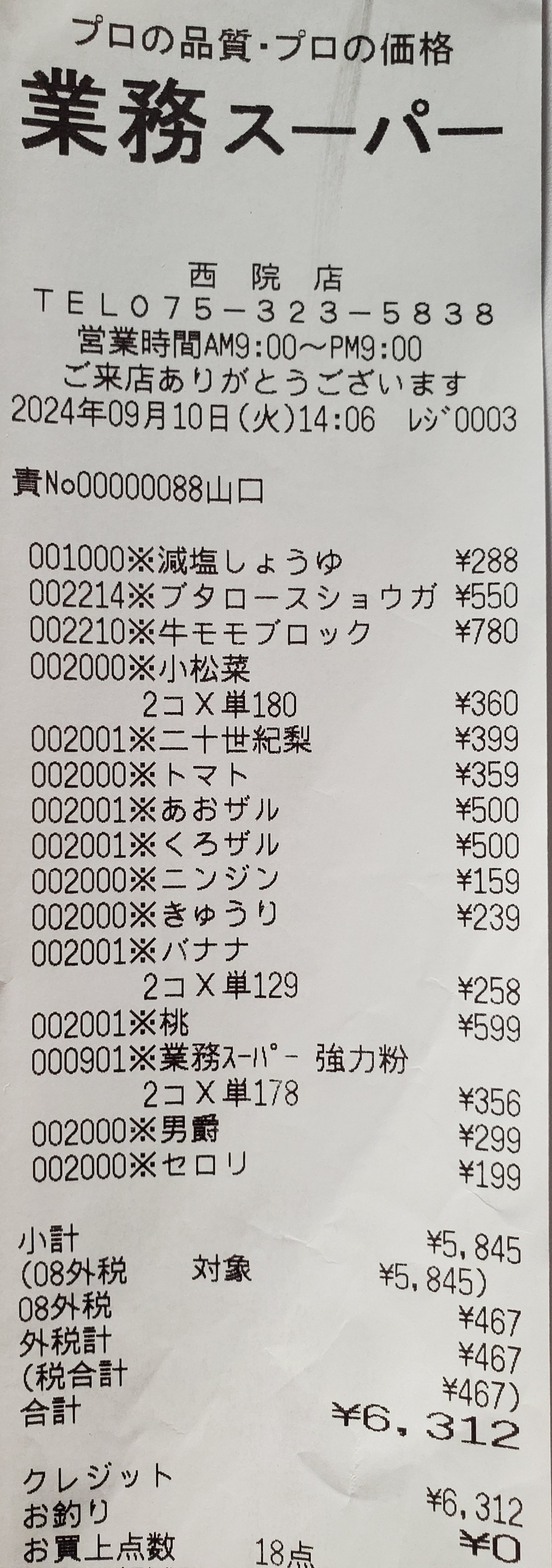Date: (7, 388, 244, 441)
Shopname: (14, 65, 542, 181)
Telnum: (127, 287, 505, 333)
Totalpay: (16, 1398, 539, 1451)
